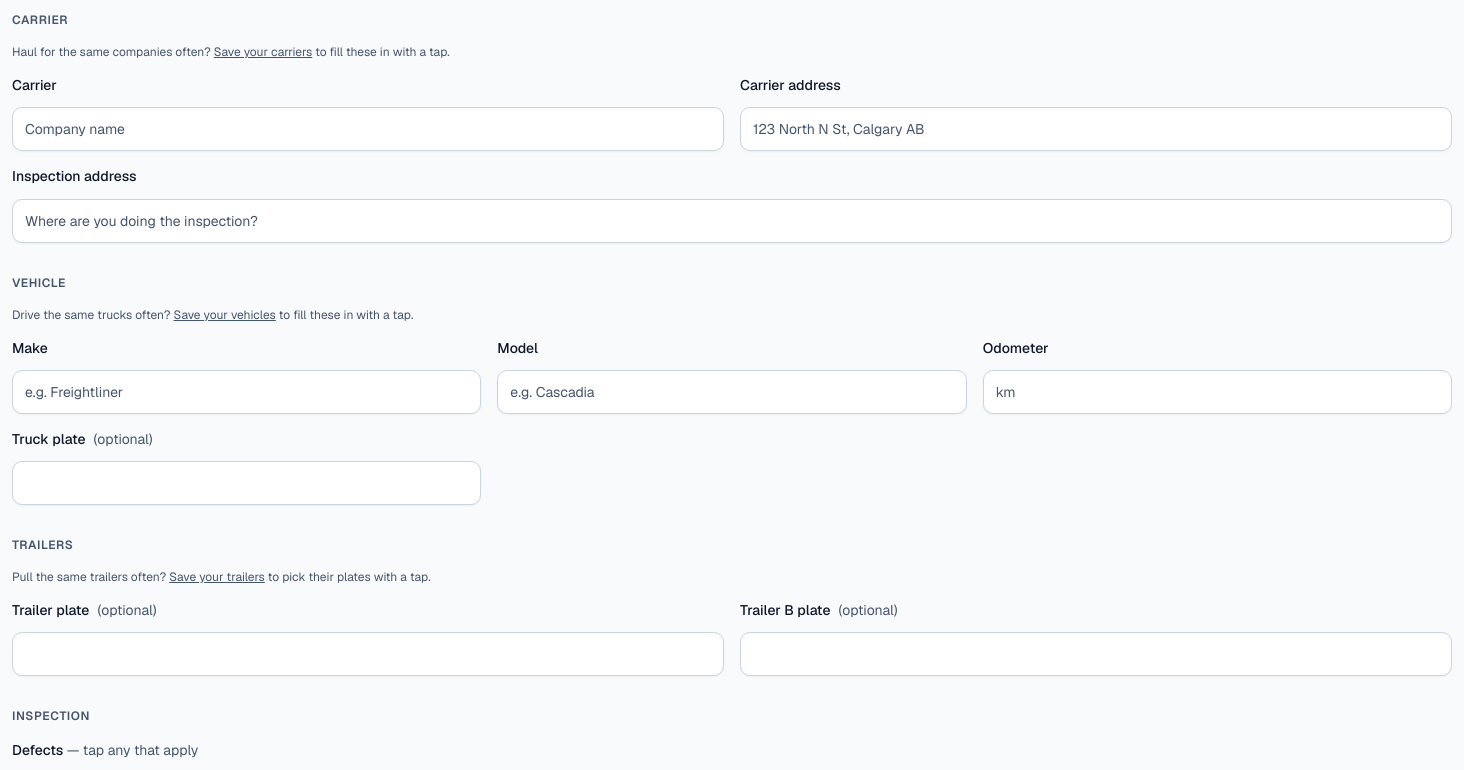
Test: AddTripForm › shows a field error after leaving it invalid
Click the field labelled "Carrier" at {"x": 368, "y": 129}, box top-left (12, 107), bottom-right (724, 151)
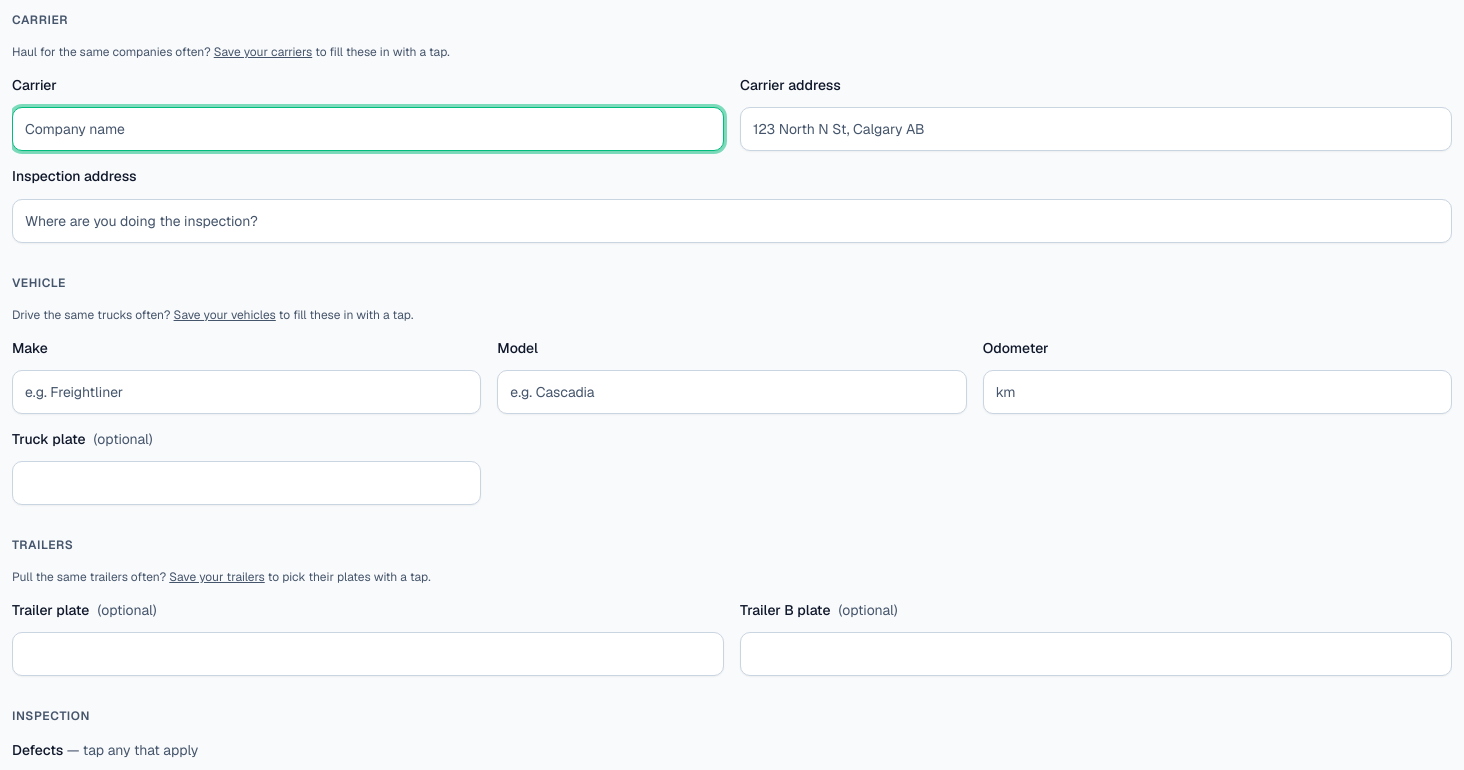
Press Tab
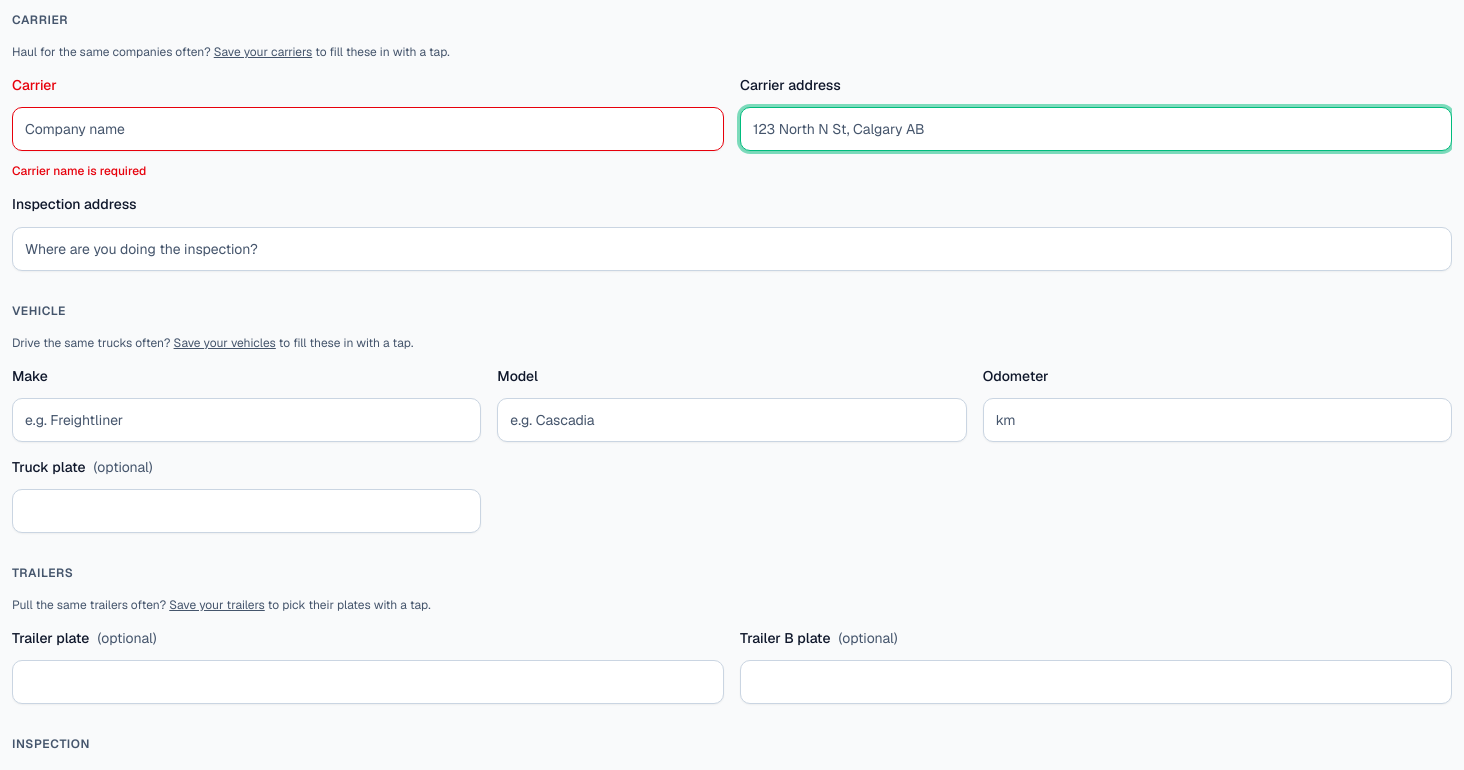
Now the text "Carrier name is required" is shown, box top-left (12, 163), bottom-right (146, 179)
